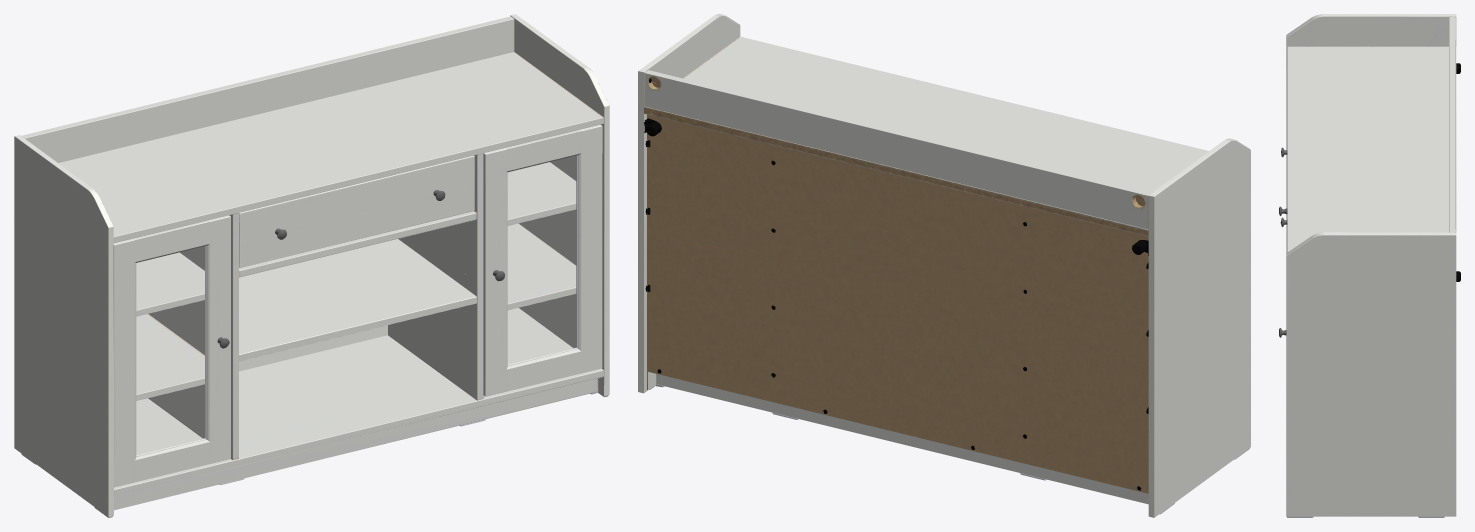
File: hauga_kredens_40621489.glb
The picture shows the model from 3 angles, left to right: view 1: azimuth 30°, elevation 25°; view 2: azimuth 150°, elevation 25°; view 3: azimuth 270°, elevation 25°; orthographic projection. The views are drawn at different scales.
Parts seen in each view (by area): view 1: hauga_kredens_40621489; view 2: hauga_kredens_40621489; view 3: hauga_kredens_40621489.
Boxes of the visible parts, x1,y1,x2,y2 form: hauga_kredens_40621489: [14, 14, 609, 517]; hauga_kredens_40621489: [638, 14, 1250, 517]; hauga_kredens_40621489: [1279, 14, 1460, 517].
Size of the model in its own units: 1.4 by 0.8379 by 0.4867.
Materials: 2 (2 with a texture image).
